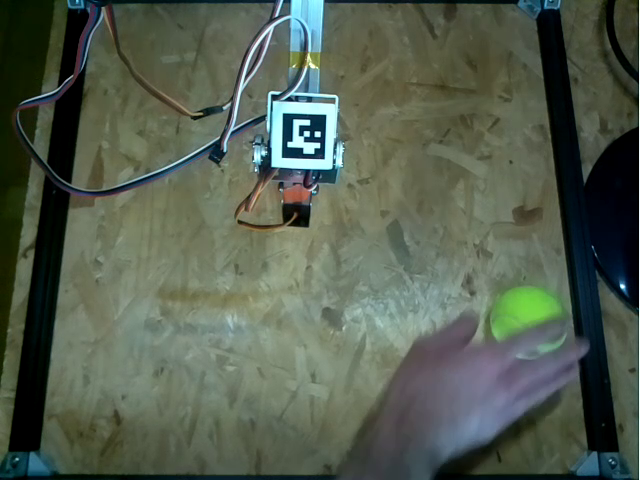tennis_ball: (491, 283, 566, 354)
